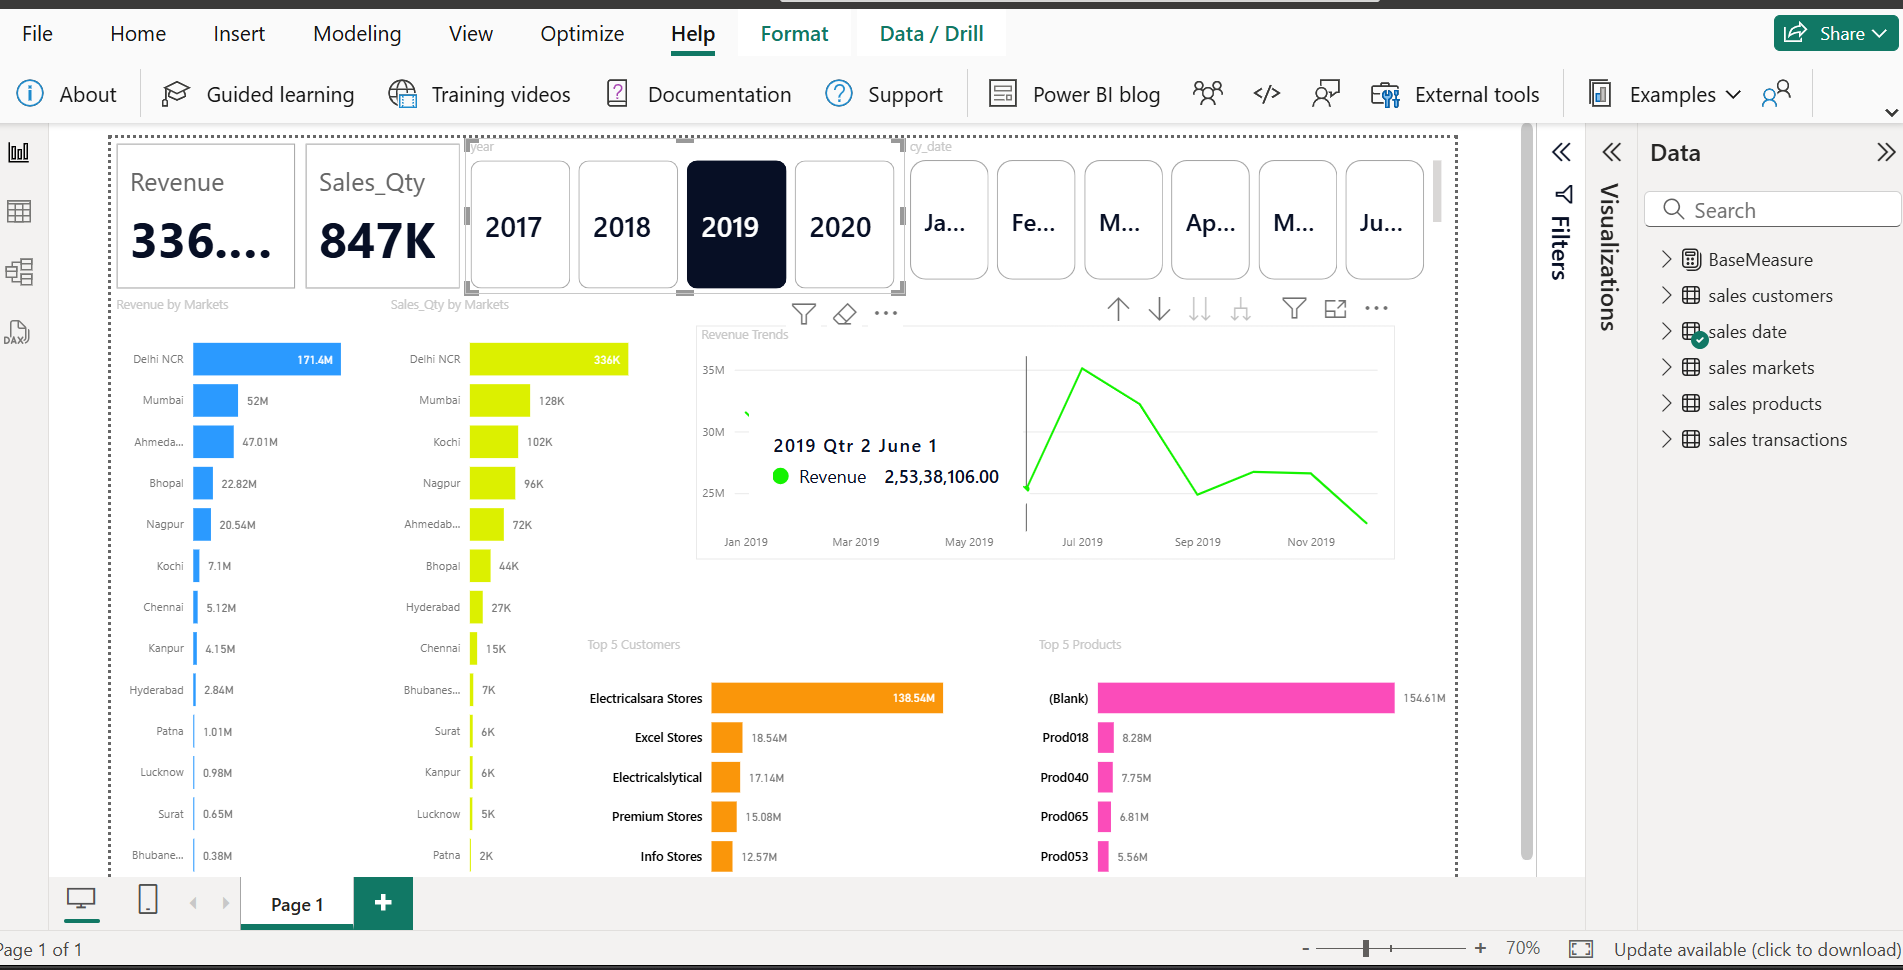

The page's visual inventory and layout, read from the dashboard file:
{"tool":"powerbi","page":{"name":"Page 1","canvas":[1280,720],"ordinal":0},"visuals":[{"type":"cardVisual","fields":{"Data":["BaseMeasure.Sales_Qty"]},"box":[180.2,0,157.5,148.4],"z":0},{"type":"cardVisual","fields":{"Data":["BaseMeasure.Revenue"]},"box":[0,0,180.2,148.4],"z":1000},{"type":"barChart","title":"Revenue by Markets","fields":{"Y":["BaseMeasure.Revenue"],"Category":["sales markets.markets_name"]},"box":[0,149.9,262,569.3],"z":2000},{"type":"barChart","title":"Sales_Qty by Markets","fields":{"Y":["BaseMeasure.Sales_Qty"],"Category":["sales markets.markets_name"]},"box":[262,149.9,268,569.3],"z":3000},{"type":"advancedSlicerVisual","fields":{"Values":["sales date.year"]},"box":[337.7,0,417.9,148.4],"z":4000},{"type":"advancedSlicerVisual","fields":{"Values":["sales date.cy_date"]},"box":[767.7,28.8,511.8,109],"z":5000},{"type":"barChart","title":"Top 5 Customers ","fields":{"Y":["BaseMeasure.Revenue"],"Category":["sales customers.custmer_name"]},"box":[448.2,473.9,392.2,245.3],"z":6000},{"type":"barChart","title":"Top 5 Products","fields":{"Y":["BaseMeasure.Revenue"],"Category":["sales products.product_code"]},"box":[878.2,473.9,401.3,245.3],"z":7000},{"type":"lineChart","title":"Revenue Trends","fields":{"Y":["BaseMeasure.Revenue"],"Category":["sales date.cy_date.Variation.Date Hierarchy.Year","sales date.cy_date.Variation.Date Hierarchy.Quarter","sales date.cy_date.Variation.Date Hierarchy.Month","sales date.cy_date.Variation.Date Hierarchy.Day"]},"box":[557.2,178.7,666.2,222.6],"z":8000}]}

Visuals, with their boxes on the page's 1280x720 design canvas (x1, y1, x2, y2). These are canvas units, not pixel positions in the 1903x970 screenshot, which may show the page scaled, cropped or inside an application window:
cardVisual - BaseMeasure.Sales_Qty: select_region(180, 0, 338, 148)
cardVisual - BaseMeasure.Revenue: select_region(0, 0, 180, 148)
"Revenue by Markets" barChart: select_region(0, 150, 262, 719)
"Sales_Qty by Markets" barChart: select_region(262, 150, 530, 719)
advancedSlicerVisual - sales date.year: select_region(338, 0, 756, 148)
advancedSlicerVisual - sales date.cy_date: select_region(768, 29, 1280, 138)
"Top 5 Customers " barChart: select_region(448, 474, 840, 719)
"Top 5 Products" barChart: select_region(878, 474, 1280, 719)
"Revenue Trends" lineChart: select_region(557, 179, 1223, 401)
